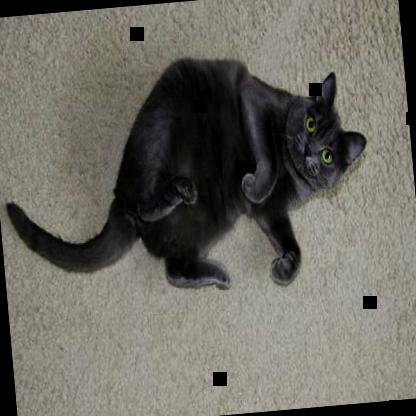cat: (0, 45, 379, 308)
